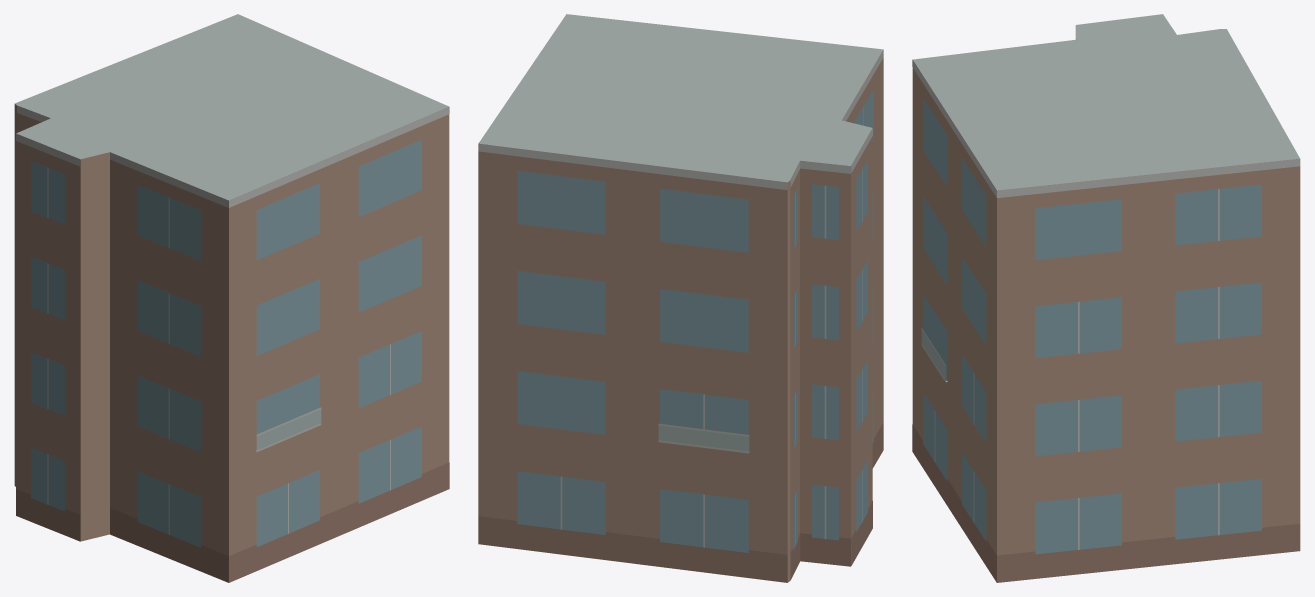
The model's file is survey-upis-32679231.glb.
The picture shows the model from 3 angles, left to right: view 1: azimuth 30°, elevation 25°; view 2: azimuth 150°, elevation 25°; view 3: azimuth 270°, elevation 25°; orthographic projection. The views are drawn at different scales.
Parts seen in each view (by area): view 1: survey-upis-32679231.tmp; view 2: survey-upis-32679231.tmp; view 3: survey-upis-32679231.tmp.
Part boxes in pixels (x1,y1,x2,y2): survey-upis-32679231.tmp: (14,14,449,582); survey-upis-32679231.tmp: (478,14,883,582); survey-upis-32679231.tmp: (912,14,1300,582).
Size of the model in its own units: 12.14 by 12.57 by 11.27.
